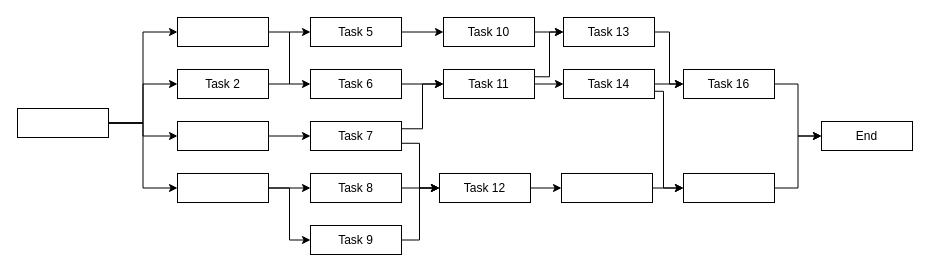
Some shapes in this 930 by 272 pixel diagram are drawn without their labels. The shapes that lost their labels are listed below. From the top down, each one's box as (x1, y1, x2, y2) in pixels, then its label:
(176, 16, 268, 46): Task 1
(16, 108, 108, 138): Start
(176, 120, 268, 150): Task 3
(176, 172, 268, 202): Task 4
(560, 172, 652, 202): Task 15
(682, 172, 774, 202): Task 17
